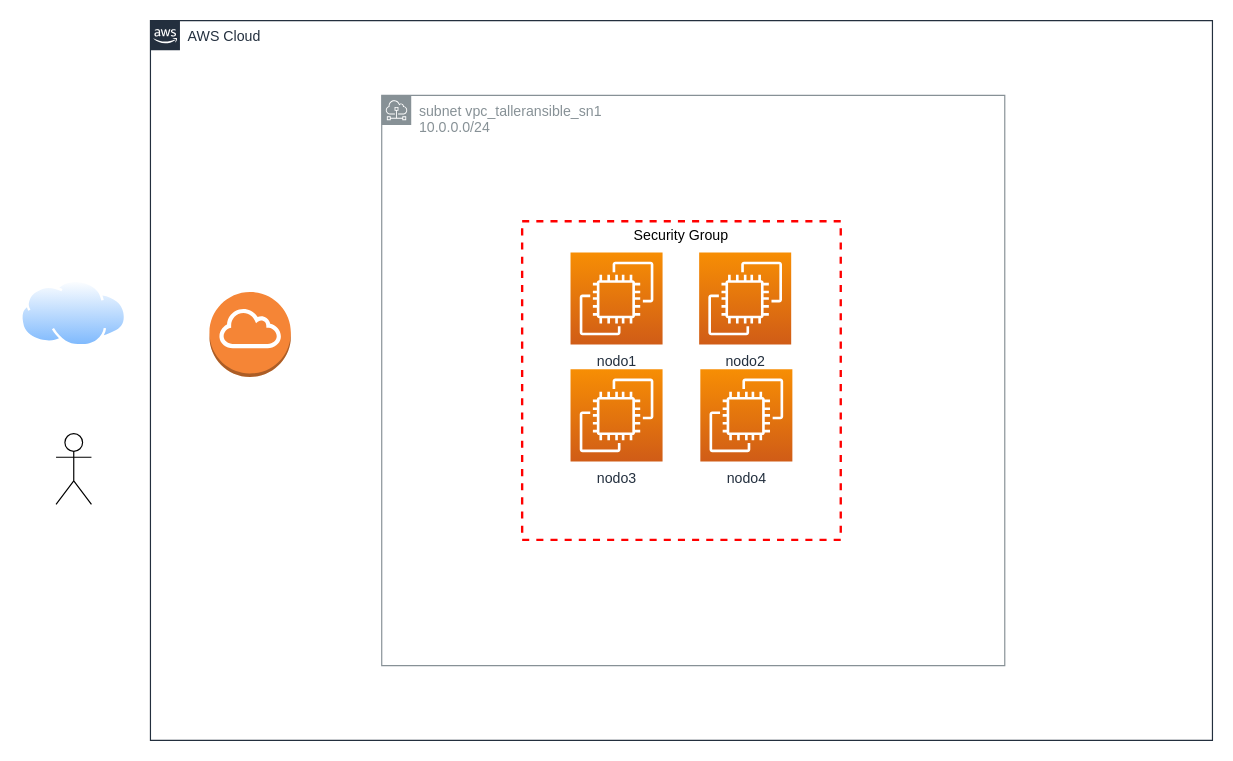
Some shapes in this 1233 by 761 pixel diagram are drawn without their labels. Here are the shapes that lost their labels. From the top down, the centre of each, then its label:
At [73,313]: "internet".
At [249,334]: "Internet Gateway".
At [73,468]: "Usuario".
